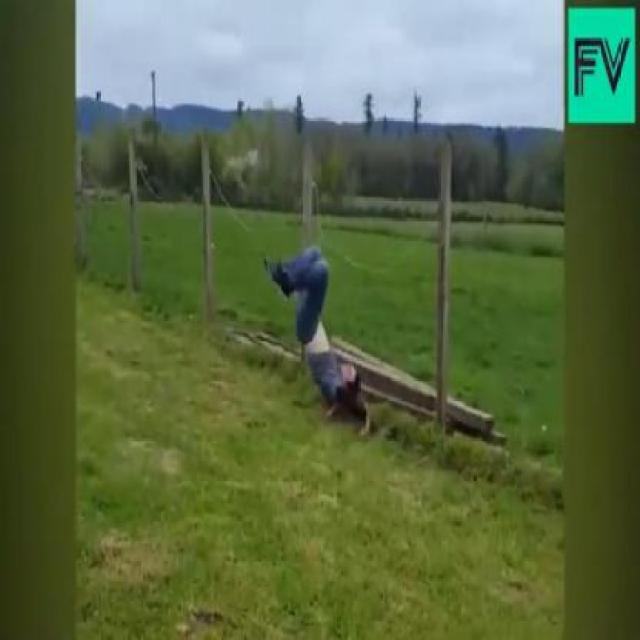fall: (264, 241, 368, 424)
